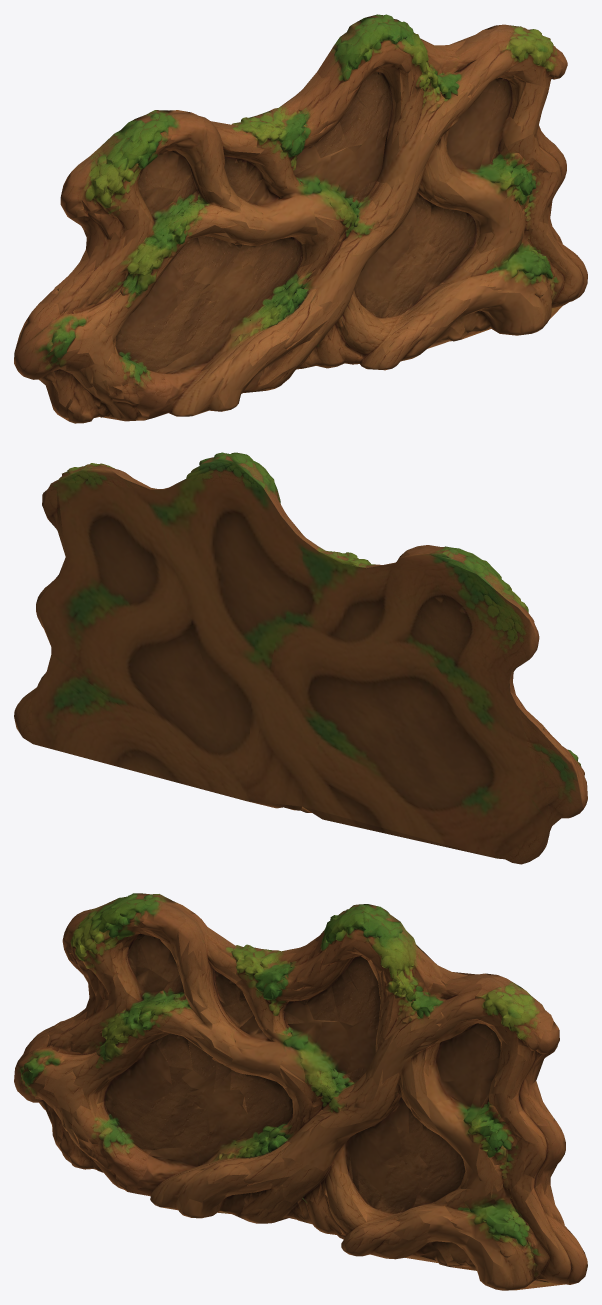
Rendered from forest-root-wall.glb.
The picture shows the model from 3 angles, top to bottom: view 1: azimuth 30°, elevation 25°; view 2: azimuth 150°, elevation 25°; view 3: azimuth 330°, elevation 25°; orthographic projection.
Parts seen in each view (by area): view 1: forest-root-wall; view 2: forest-root-wall; view 3: forest-root-wall.
Boxes of the visible parts, box(x1,y1,x2,y2) form: forest-root-wall: box(14, 14, 587, 423); forest-root-wall: box(14, 452, 587, 864); forest-root-wall: box(14, 893, 587, 1290).
Bounding box in the file's own units: 1.9 × 1.08 × 0.1406.
Materials: 1 (1 with a texture image).
